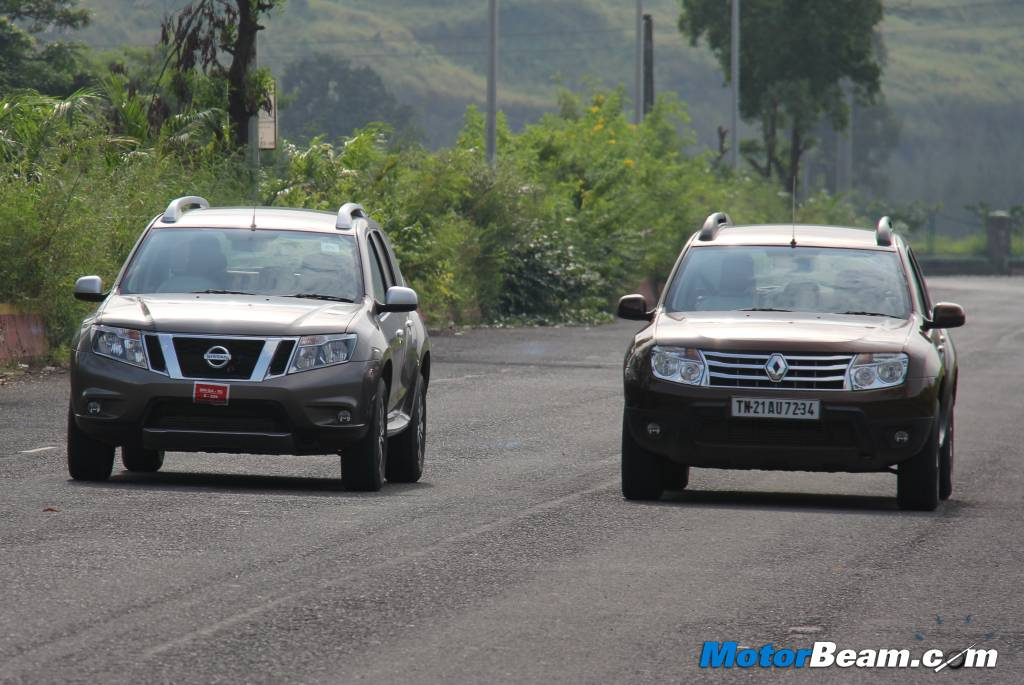number_plate: (721, 393, 824, 427)
